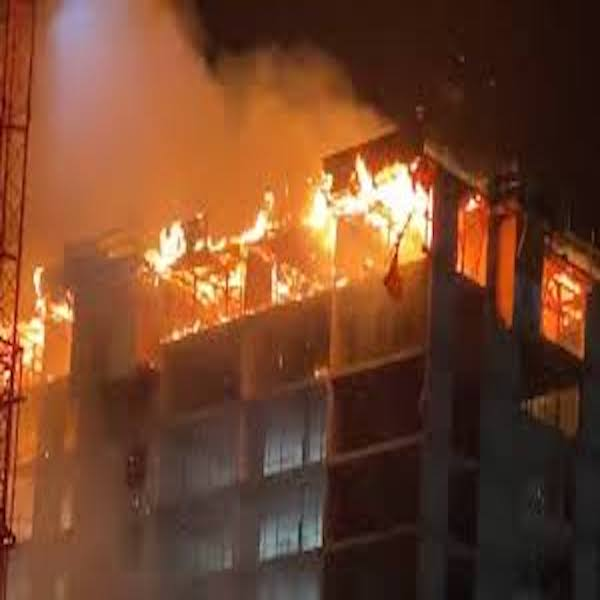fire: (314, 175, 430, 232), (21, 272, 73, 341), (202, 209, 284, 251), (547, 263, 581, 353), (140, 221, 191, 270), (192, 275, 245, 317)
